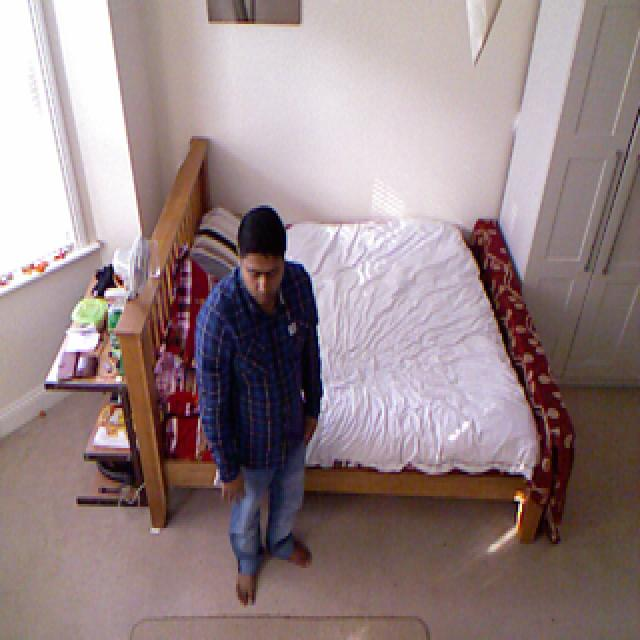standing: (202, 212, 346, 618)
